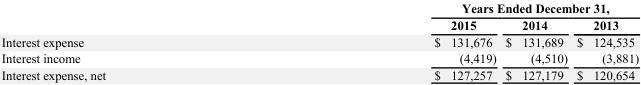table: (0, 1, 638, 81)
table column: (0, 1, 269, 81), (269, 1, 500, 81), (500, 1, 571, 81), (571, 1, 638, 81)
table column header: (0, 1, 638, 33)
table row: (0, 16, 638, 33), (0, 49, 638, 66), (0, 33, 638, 49), (0, 1, 638, 16), (0, 66, 638, 81)
table spanning cell: (269, 1, 638, 16)
